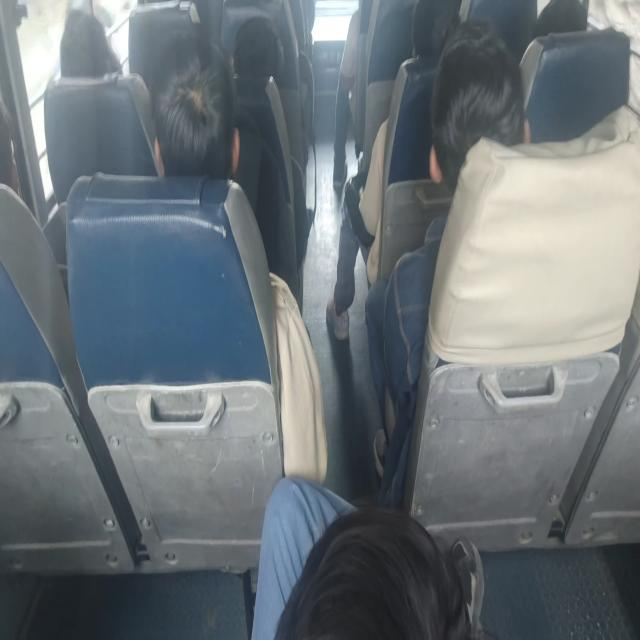person: (288, 503, 484, 640), (429, 58, 529, 199), (158, 40, 245, 194), (51, 0, 113, 81), (0, 90, 42, 194), (230, 6, 284, 83), (401, 0, 459, 53), (525, 0, 598, 33)
